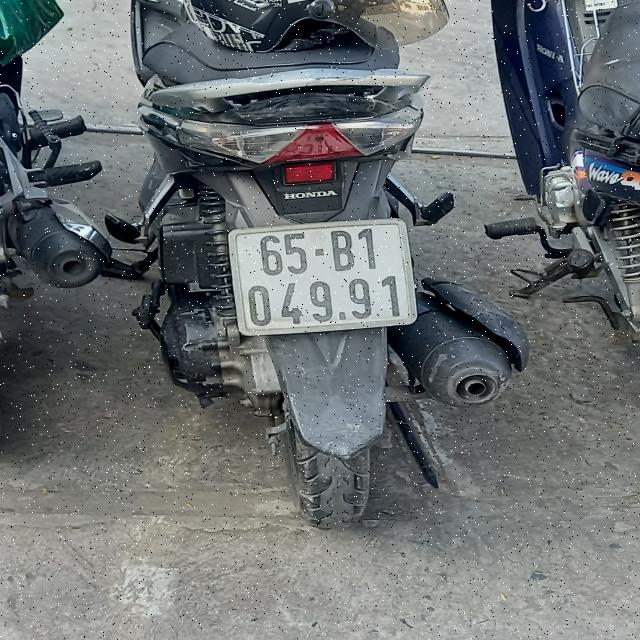0: (247, 285, 271, 327)
1: (356, 227, 380, 270), (378, 276, 401, 317)
4: (280, 282, 305, 325)
5: (284, 232, 307, 274)
6: (260, 234, 284, 278)
9: (310, 280, 334, 325), (348, 278, 373, 319)
B: (331, 230, 356, 272)
